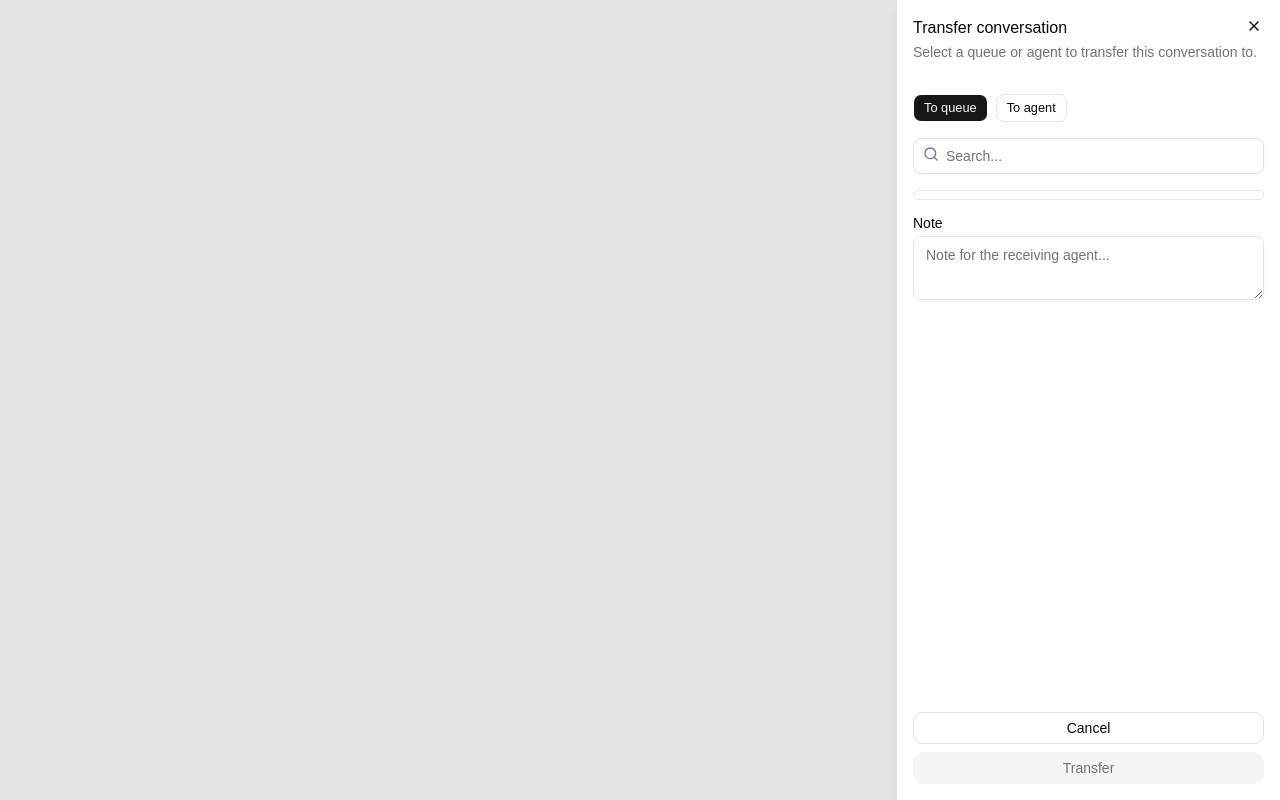
Test case: TransferDialog targets › EmptyAnswer_ShouldShowNoResults_ForTheAgentList
This screenshot has width=1280, height=800.
Click the button with test id "transfer-to-agent".
click(1031, 108)  # box [996,94,1067,122]
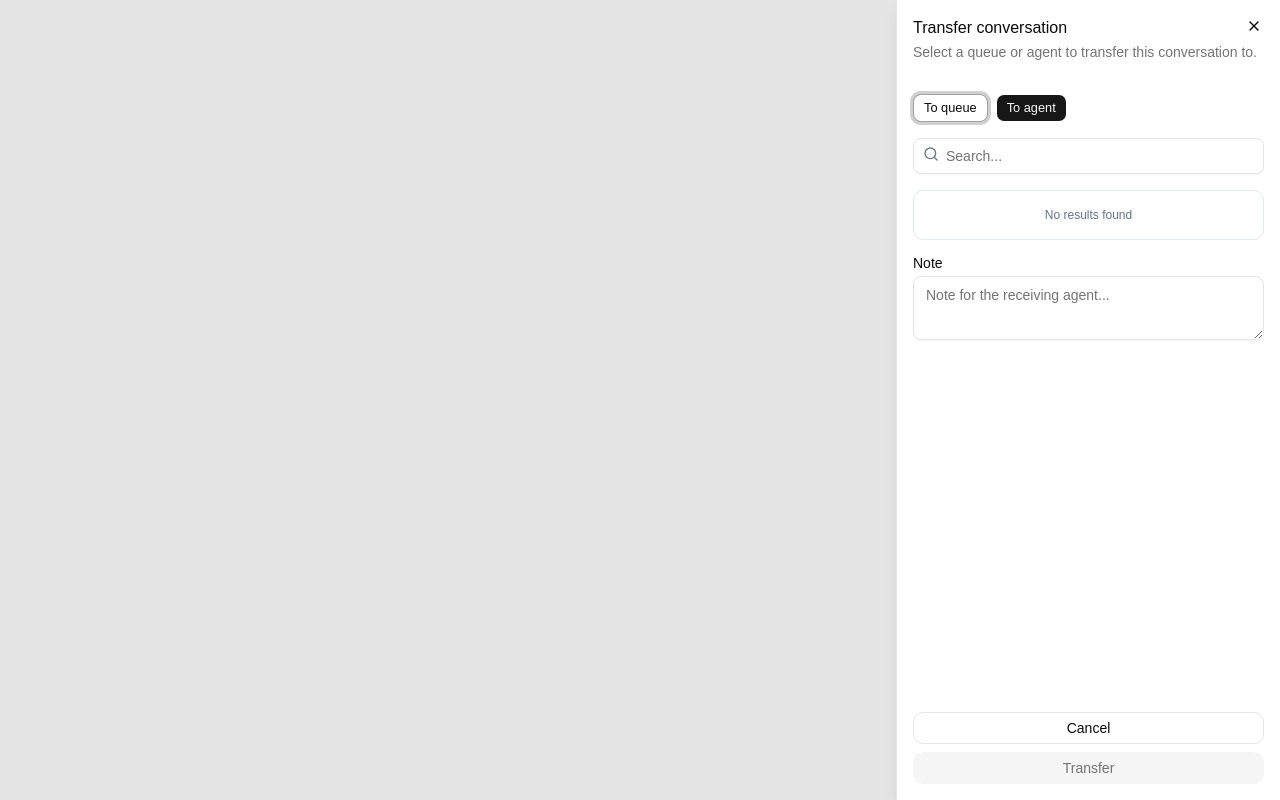
Now the text "No results found" is shown, box [1045,208,1132,222]
